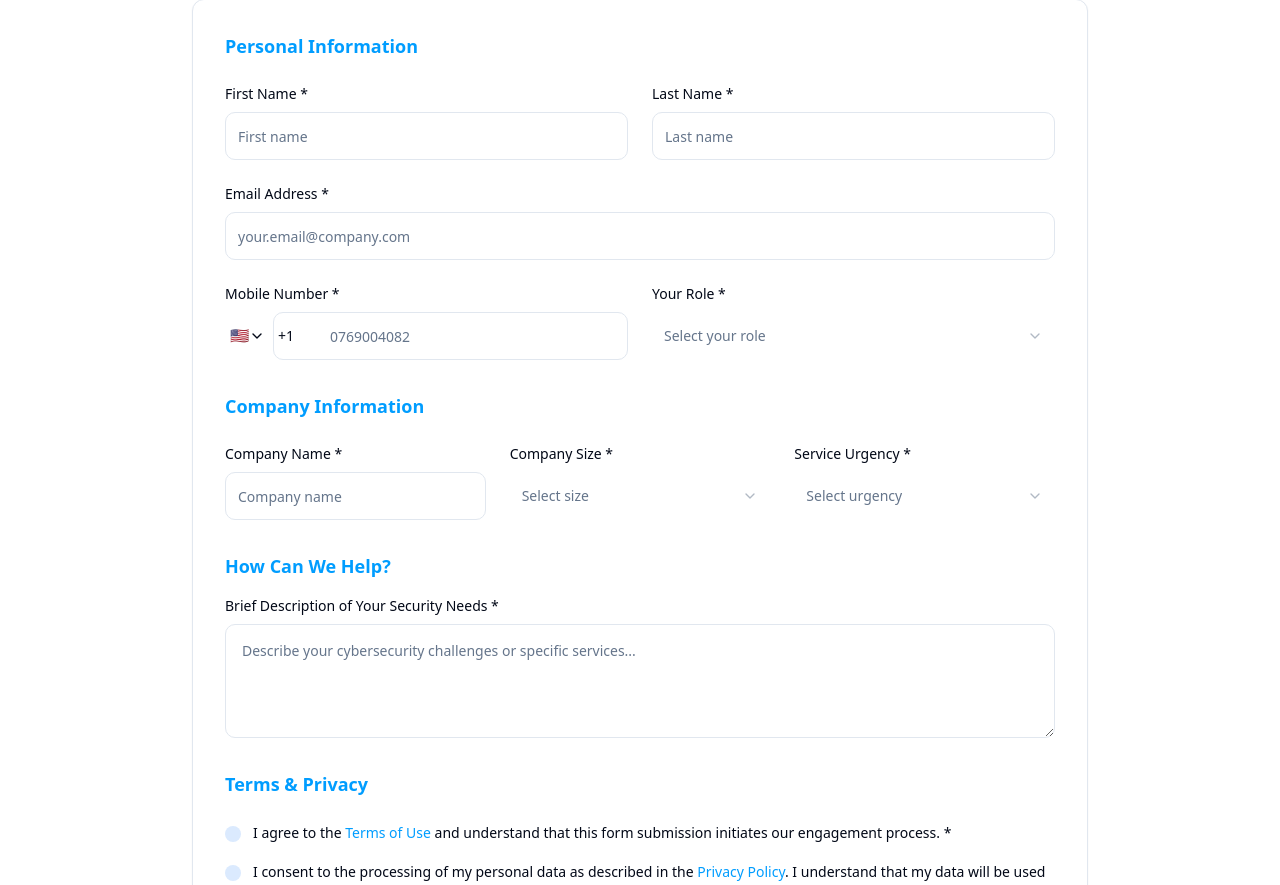
Test: ContactForm › validates minimum description length
The image size is (1280, 885).
Replace the text in the text box labelled "Brief Description of Your Security Needs *" with "Short" at (640, 681), box [225, 624, 1055, 738]
(page scrolled)
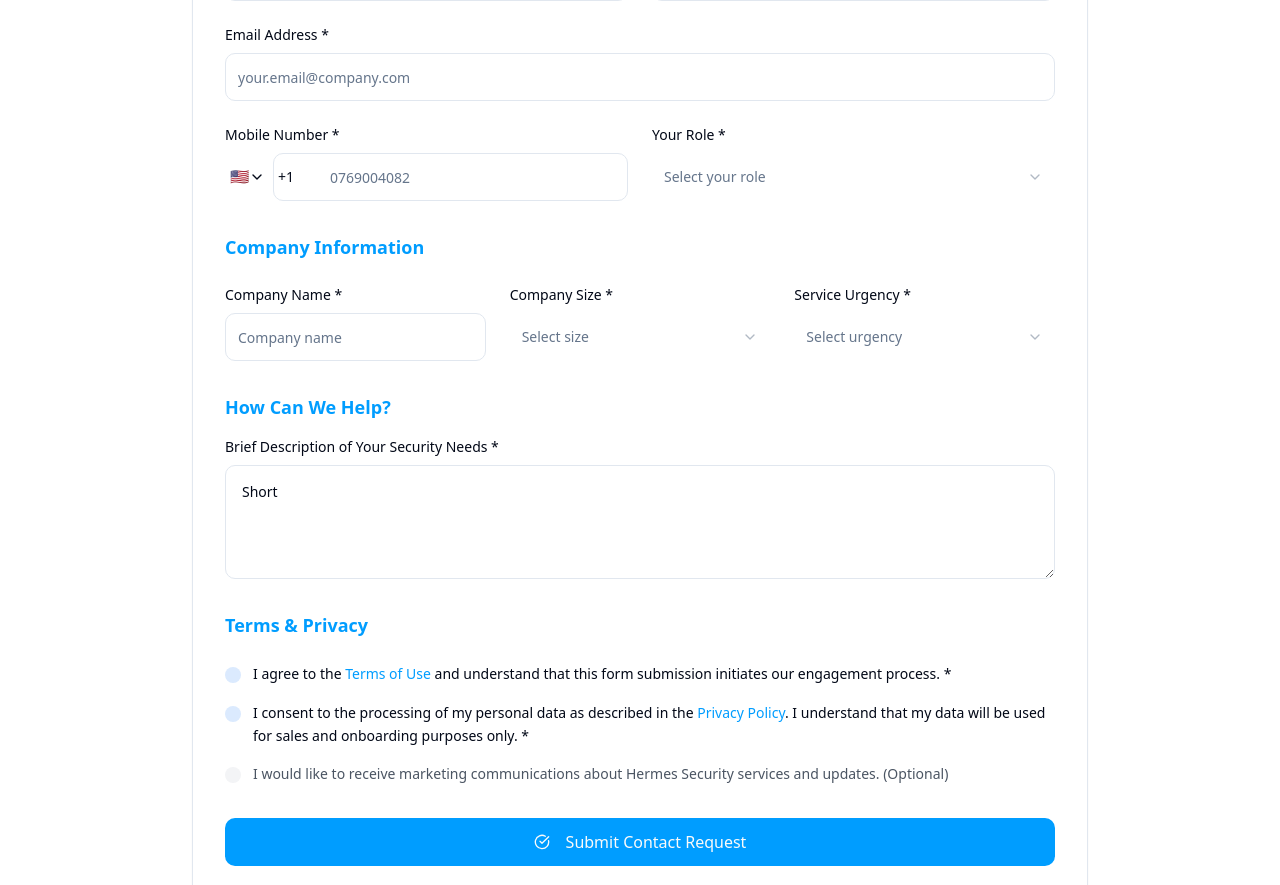
Click the button "Submit Contact Request".
click(640, 842)  # box [225, 818, 1055, 866]
(page scrolled)
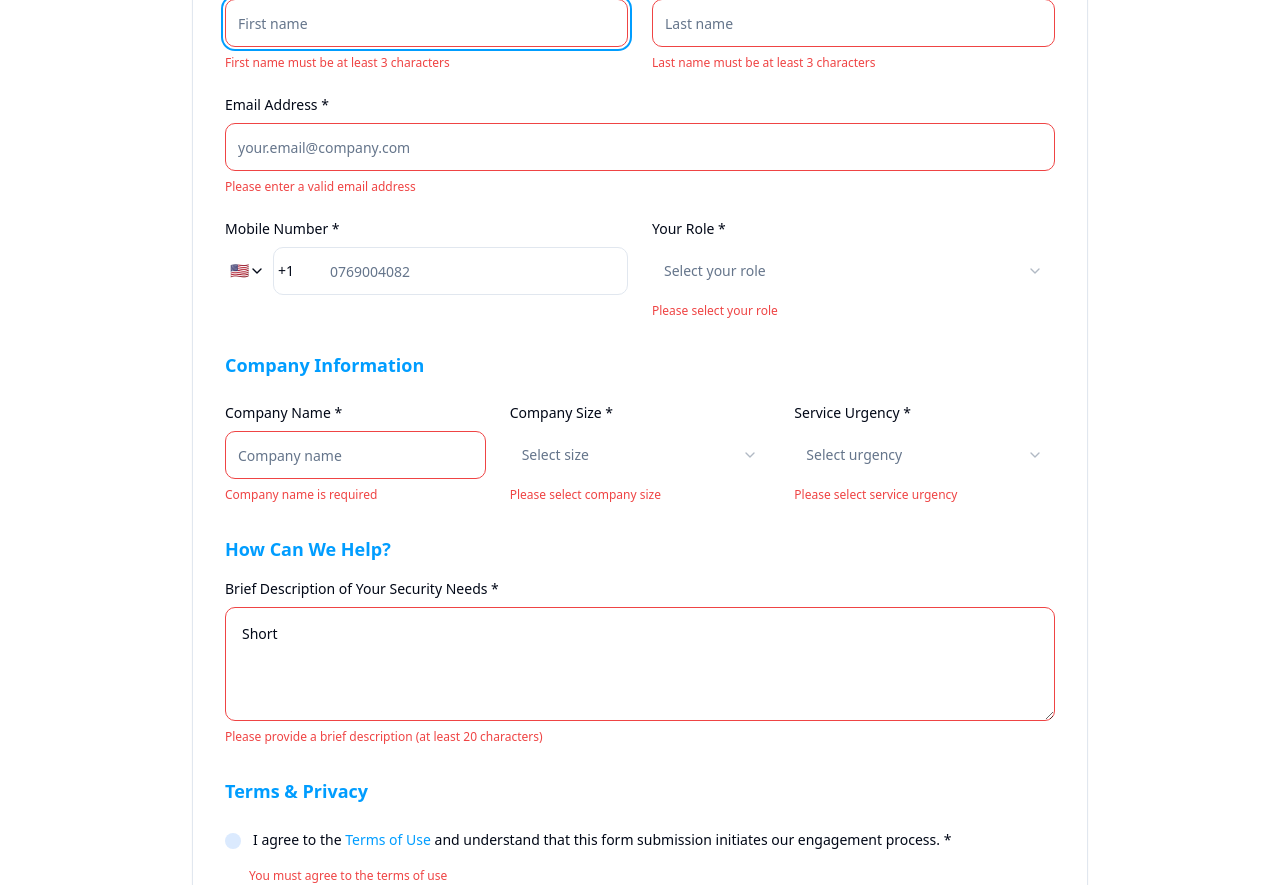
Check: the text "Please provide a brief description (at least 20 characters)" is shown, box [225, 728, 543, 745]
